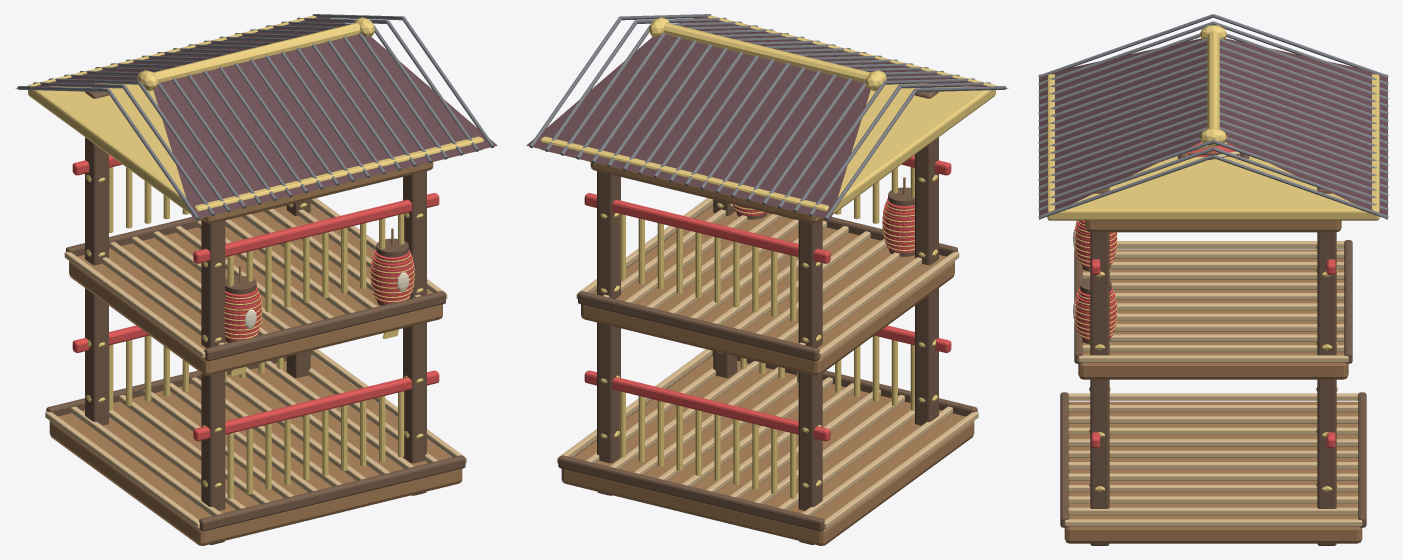
File: stage_yagura_tower.glb
The picture shows the model from 3 angles, left to right: view 1: azimuth 30°, elevation 25°; view 2: azimuth 150°, elevation 25°; view 3: azimuth 270°, elevation 25°; orthographic projection. The views are drawn at different scales.
Parts seen in each view (by area): view 1: High festival yagura roof hipped roof, Full-size yagura cantilever floor, Full-size yagura cantilever floor.001, High festival yagura roof underedge, Large ceremonial yagura timber pillars, Large ceremonial yagura timber pillars.001, Large ceremonial yagura timber pillars.002, Yagura structural deck sill, Yagura structural deck sill.002, Upper balcony guard rails, Upper balcony guard rails.002, High festival yagura roof ridge (+49 smaller); view 2: High festival yagura roof hipped roof.001, Full-size yagura cantilever floor, Full-size yagura cantilever floor.001, High festival yagura roof underedge, Large ceremonial yagura timber pillars.001, Large ceremonial yagura timber pillars.003, Large ceremonial yagura timber pillars, Yagura structural deck sill.001, Yagura structural deck sill.003, Upper balcony guard rails.001, Upper balcony guard rails.003, High festival yagura roof ridge (+50 smaller); view 3: Full-size yagura cantilever floor, High festival yagura roof underedge, High festival yagura roof hipped roof, High festival yagura roof hipped roof.001, Full-size yagura cantilever floor.001, Large ceremonial yagura timber pillars.002, Large ceremonial yagura timber pillars.003, Full-size yagura cantilever floor.002, Yagura structural deck plank.010, Yagura structural deck plank.011, Yagura structural deck plank.023, Yagura structural deck plank (+65 smaller).
Boxes of the visible parts, box(x1,y1,x2,y2) form: High festival yagura roof hipped roof: box(153, 35, 497, 219); Full-size yagura cantilever floor: box(49, 355, 462, 545); Full-size yagura cantilever floor.001: box(69, 204, 442, 375); High festival yagura roof underedge: box(28, 15, 483, 218); Large ceremonial yagura timber pillars: box(201, 219, 225, 544); Large ceremonial yagura timber pillars.001: box(85, 87, 108, 425); Large ceremonial yagura timber pillars.002: box(403, 171, 426, 495); Yagura structural deck sill: box(199, 455, 465, 531); Yagura structural deck sill.002: box(204, 291, 445, 361); Upper balcony guard rails: box(193, 370, 439, 441); Upper balcony guard rails.002: box(193, 193, 439, 263); High festival yagura roof ridge: box(153, 23, 360, 82); High festival yagura roof hipped roof.001: box(526, 35, 870, 219); Full-size yagura cantilever floor: box(561, 355, 974, 545); Full-size yagura cantilever floor.001: box(581, 204, 954, 375); High festival yagura roof underedge: box(540, 15, 995, 218); Large ceremonial yagura timber pillars.001: box(798, 219, 822, 544); Large ceremonial yagura timber pillars.003: box(597, 171, 620, 495); Large ceremonial yagura timber pillars: box(915, 87, 938, 425); Yagura structural deck sill.001: box(558, 455, 824, 531); Yagura structural deck sill.003: box(578, 291, 819, 361); Upper balcony guard rails.001: box(584, 370, 830, 441); Upper balcony guard rails.003: box(584, 193, 830, 263); High festival yagura roof ridge: box(663, 23, 870, 82); Full-size yagura cantilever floor: box(1064, 401, 1362, 543); High festival yagura roof underedge: box(1047, 74, 1379, 220); High festival yagura roof hipped roof: box(1039, 38, 1207, 219); High festival yagura roof hipped roof.001: box(1219, 38, 1387, 219); Full-size yagura cantilever floor.001: box(1078, 249, 1348, 379); Large ceremonial yagura timber pillars.002: box(1090, 187, 1109, 545); Large ceremonial yagura timber pillars.003: box(1317, 187, 1336, 545); Full-size yagura cantilever floor.002: box(1085, 220, 1341, 232); Yagura structural deck plank.010: box(1068, 507, 1358, 515); Yagura structural deck plank.011: box(1064, 519, 1362, 526); Yagura structural deck plank.023: box(1078, 355, 1348, 362); Yagura structural deck plank: box(1068, 393, 1358, 400).
Size of the model in its own units: 1.45 by 1.95 by 1.48.
